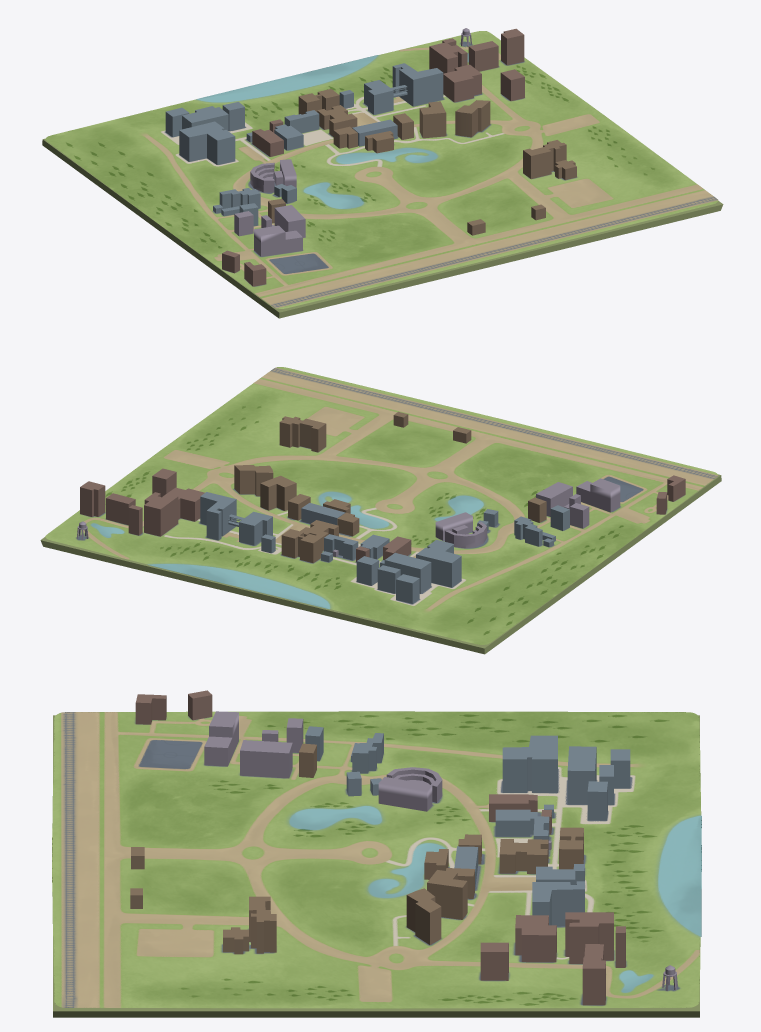
The model's file is mapa3d.fbx.
3 renders of one model, top to bottom at view 1: azimuth 30°, elevation 25°; view 2: azimuth 150°, elevation 25°; view 3: azimuth 270°, elevation 25°, orthographic. The views are drawn at different scales.
Visible parts, largest first — view 1: pPlane22, pCube2, pPlane1, pPlane8, pasted__pasted__pasted__pCube21, pPlane19, pPlane11, pPlane10, pPlane9, pPlane12, pPlane6, pasted__pasted__pasted__pCube9 (+13 smaller); view 2: pPlane22, pCube2, pPlane1, pPlane19, pPlane8, pPlane9, pasted__pasted__pasted__pCube21, pPlane4, pPlane12, pasted__pCube1, pPlane10, pPlane6 (+13 smaller); view 3: pPlane22, pCube2, pPlane1, pPlane9, pPlane8, pasted__pasted__pasted__pCube20, pPlane11, pPlane10, pasted__pasted__pasted__pCube21, pPlane5, pasted__pCube1, pPlane12 (+18 smaller).
Boxes of the visible parts, x1,y1,x2,y2 form: pPlane22: [45, 31, 718, 308]; pCube2: [42, 31, 723, 318]; pPlane1: [179, 121, 235, 164]; pPlane8: [392, 63, 443, 106]; pasted__pasted__pasted__pCube21: [254, 225, 302, 256]; pPlane19: [523, 140, 566, 179]; pPlane11: [443, 64, 481, 102]; pPlane10: [455, 100, 490, 137]; pPlane9: [429, 42, 467, 73]; pPlane12: [419, 101, 446, 138]; pPlane6: [364, 80, 393, 114]; pasted__pasted__pasted__pCube9: [468, 41, 498, 71]; pPlane22: [45, 367, 718, 644]; pCube2: [40, 367, 721, 654]; pPlane1: [416, 539, 461, 587]; pPlane19: [279, 416, 326, 452]; pPlane8: [200, 492, 236, 540]; pPlane9: [144, 492, 178, 536]; pasted__pasted__pasted__pCube21: [576, 478, 620, 512]; pPlane4: [281, 529, 322, 563]; pPlane12: [260, 475, 296, 510]; pasted__pCube1: [384, 552, 431, 593]; pPlane10: [234, 465, 273, 496]; pPlane6: [239, 511, 272, 545]; pPlane22: [52, 711, 701, 1008]; pCube2: [53, 715, 699, 1017]; pPlane1: [502, 735, 557, 792]; pPlane9: [565, 912, 613, 963]; pPlane8: [532, 881, 584, 926]; pasted__pasted__pasted__pCube20: [240, 740, 292, 778]; pPlane11: [515, 915, 556, 962]; pPlane10: [406, 888, 441, 944]; pasted__pasted__pasted__pCube21: [204, 711, 238, 766]; pPlane5: [499, 839, 548, 873]; pasted__pCube1: [567, 746, 596, 804]; pPlane12: [427, 870, 467, 919].
Size of the model in its own units: 41.07 by 2.98 by 41.07.
Materials: 6 (1 with a texture image).
